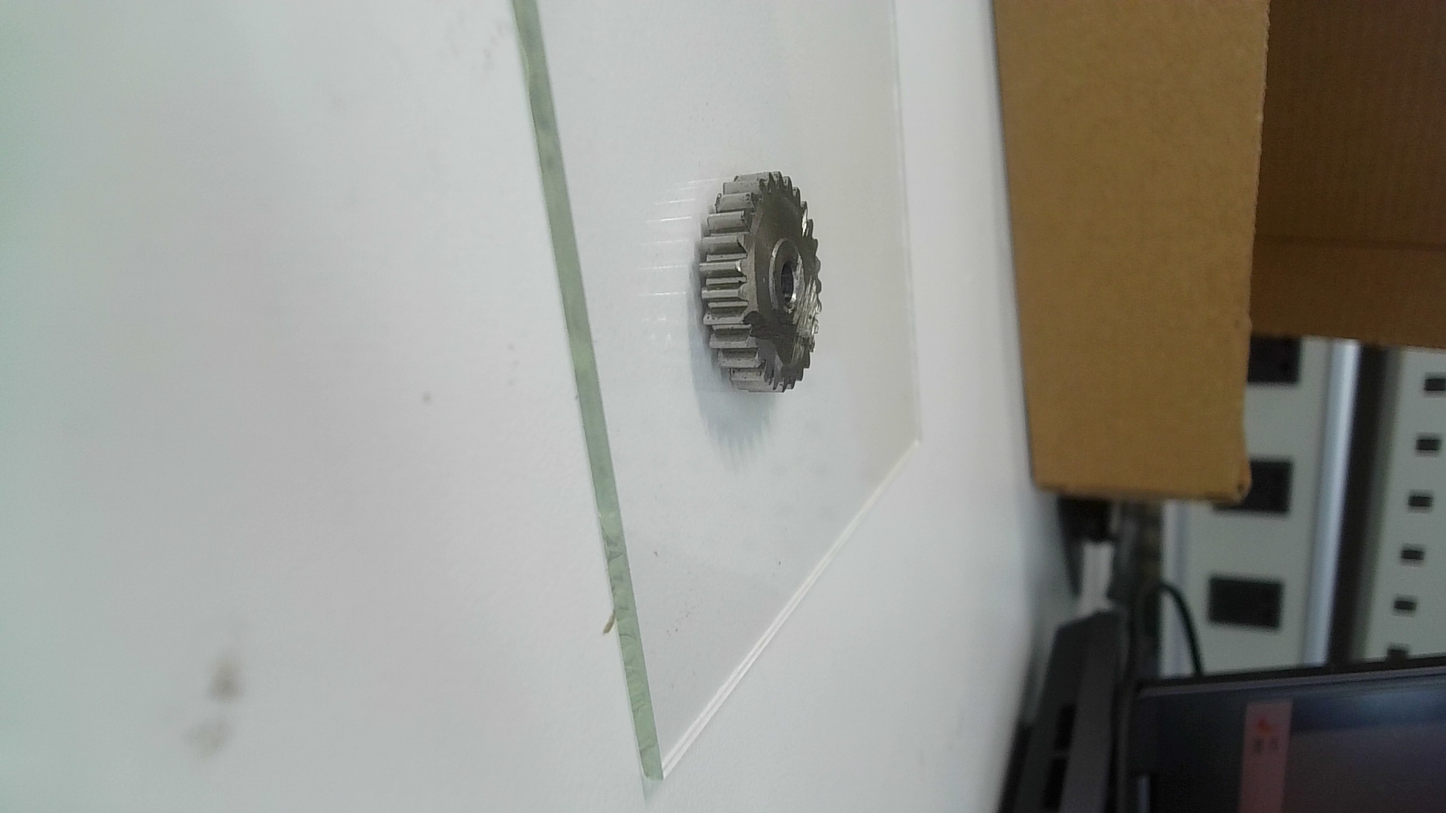gear: (686, 161, 831, 391)
